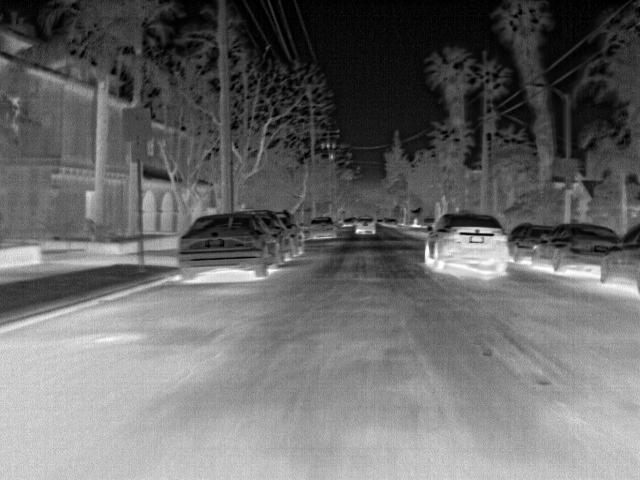car: (178, 212, 284, 278), (423, 213, 509, 271), (531, 223, 621, 271), (599, 223, 640, 289), (253, 209, 299, 263), (508, 222, 550, 266), (278, 209, 306, 256), (307, 218, 339, 239), (355, 216, 379, 234), (341, 218, 358, 230), (384, 218, 401, 230)
